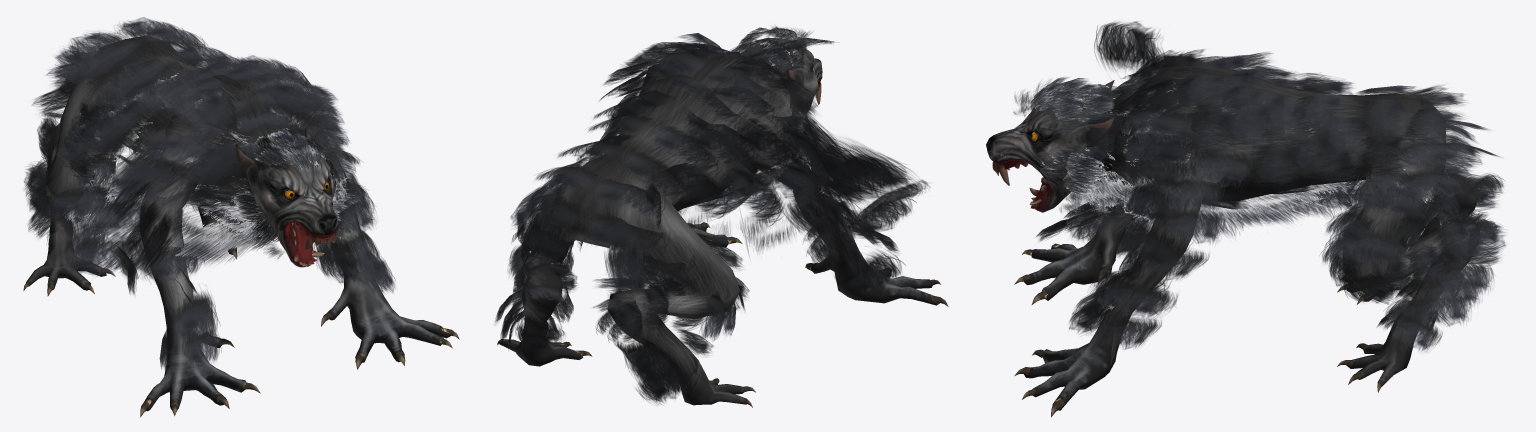
The picture shows the model from 3 angles, left to right: view 1: azimuth 30°, elevation 25°; view 2: azimuth 150°, elevation 25°; view 3: azimuth 270°, elevation 25°; orthographic projection. The views are drawn at different scales.
Parts seen in each view (by area): view 1: awil_werewolf_runtime; view 2: awil_werewolf_runtime; view 3: awil_werewolf_runtime.
Part boxes in pixels (x1=…): awil_werewolf_runtime: x1=23, y1=17, x2=459, y2=417; awil_werewolf_runtime: x1=494, y1=25, x2=948, y2=407; awil_werewolf_runtime: x1=986, y1=21, x2=1505, y2=417.
Size of the model in its own units: 0.0819 by 0.0634 by 0.1082.
1 material, 1 textured.
